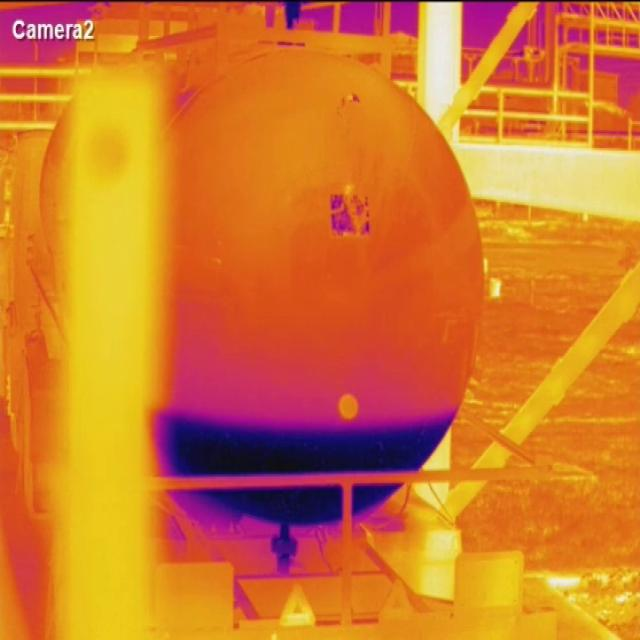tank: (163, 49, 486, 526)
